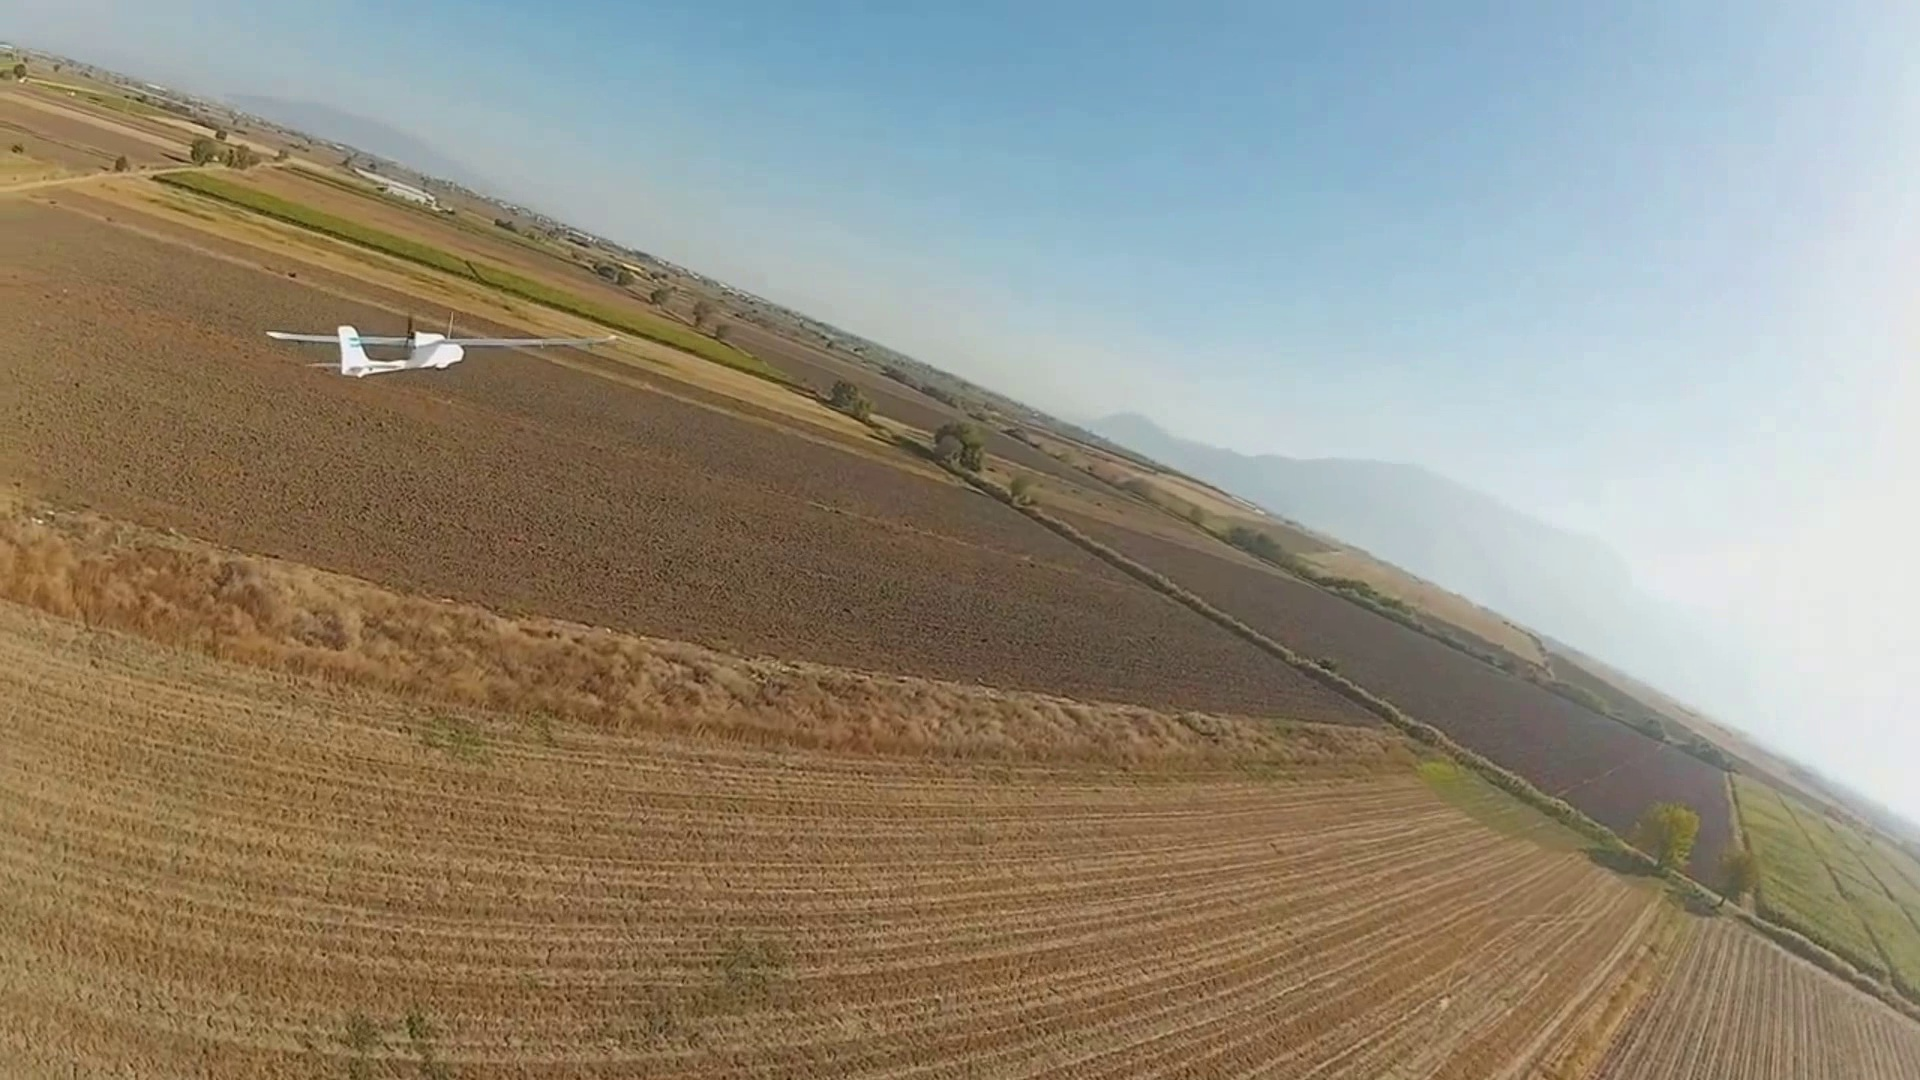airplane: (264, 322, 464, 375)
